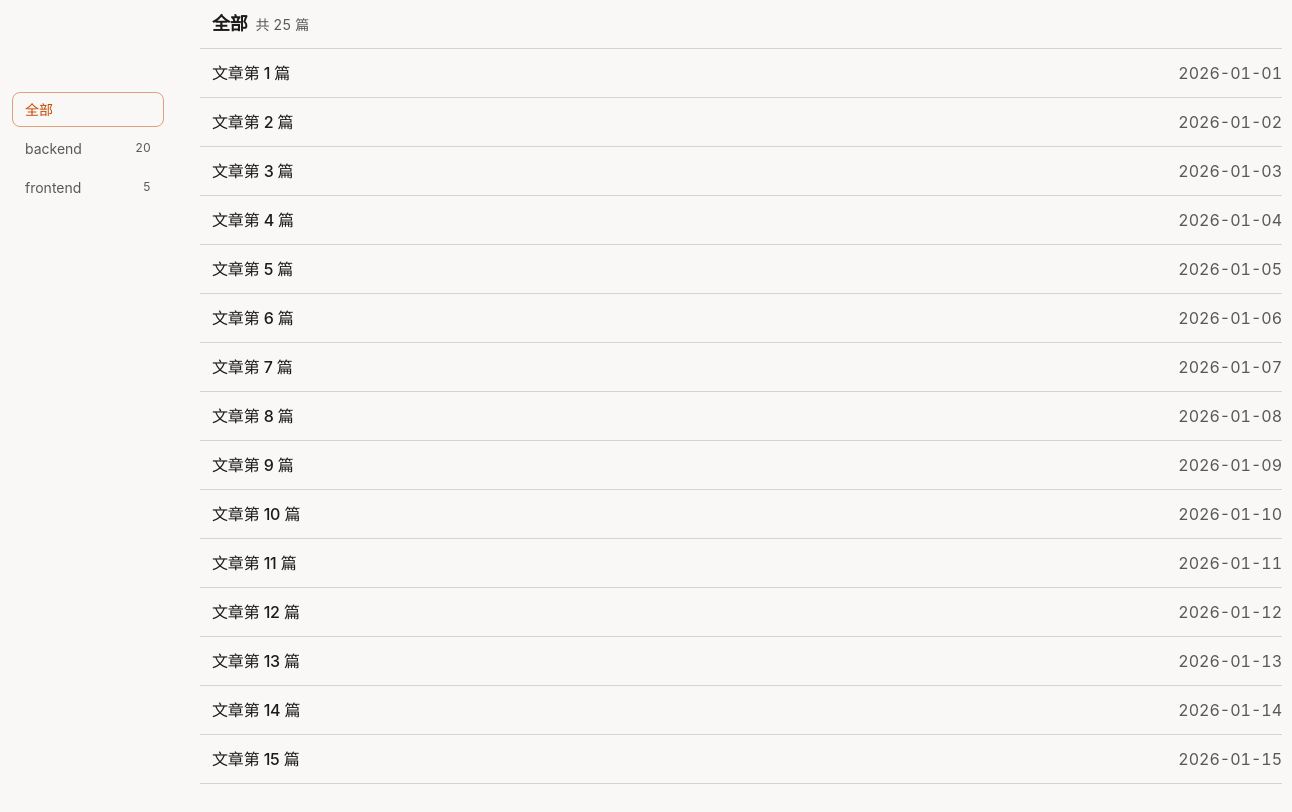
Test: PostsExplorer 分批加载与侧栏交互 › 切换分类时重置加载数量并筛选当前分类
切换到 backend（20 篇）
Click the button "backend 20": (88, 148) 12,131 -> 164,166
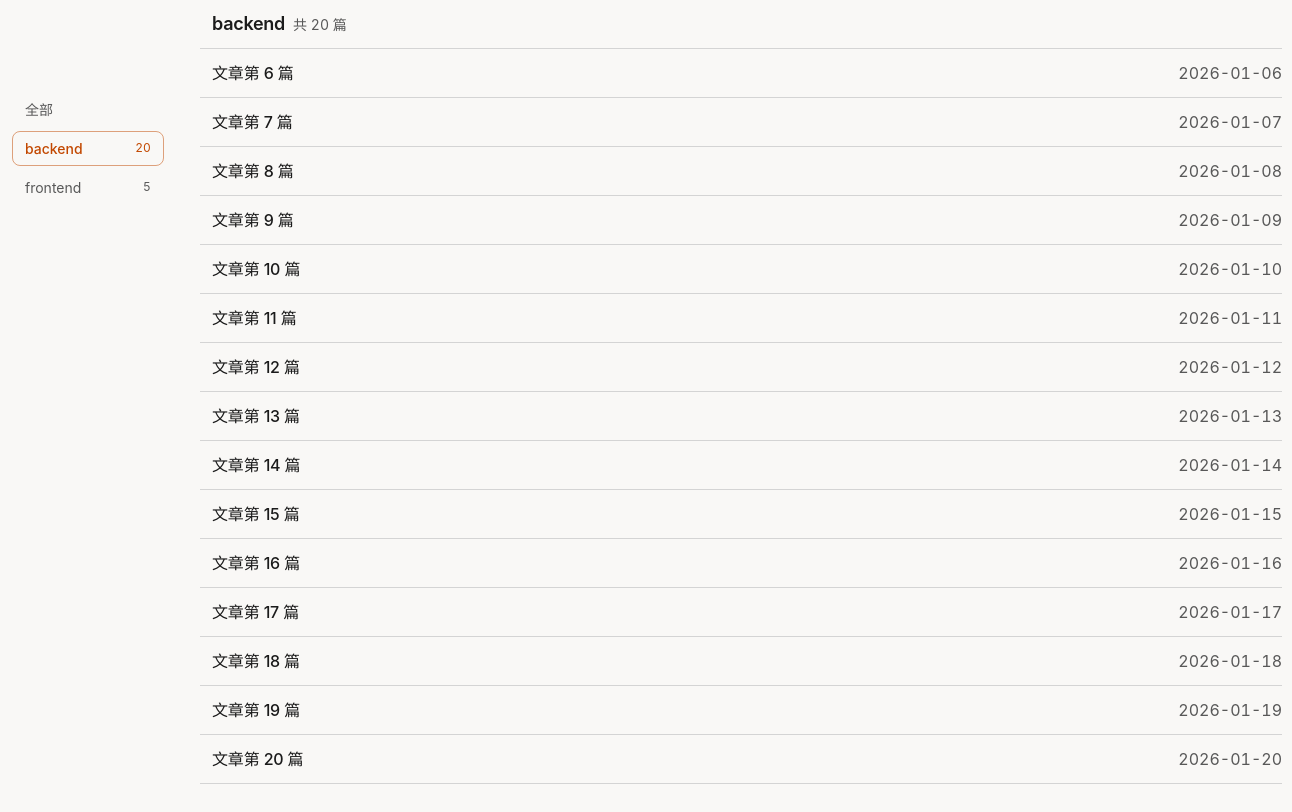
切换到 frontend（5 篇，少于 15 篇）
Click the button "frontend 5": (88, 188) 12,170 -> 164,205
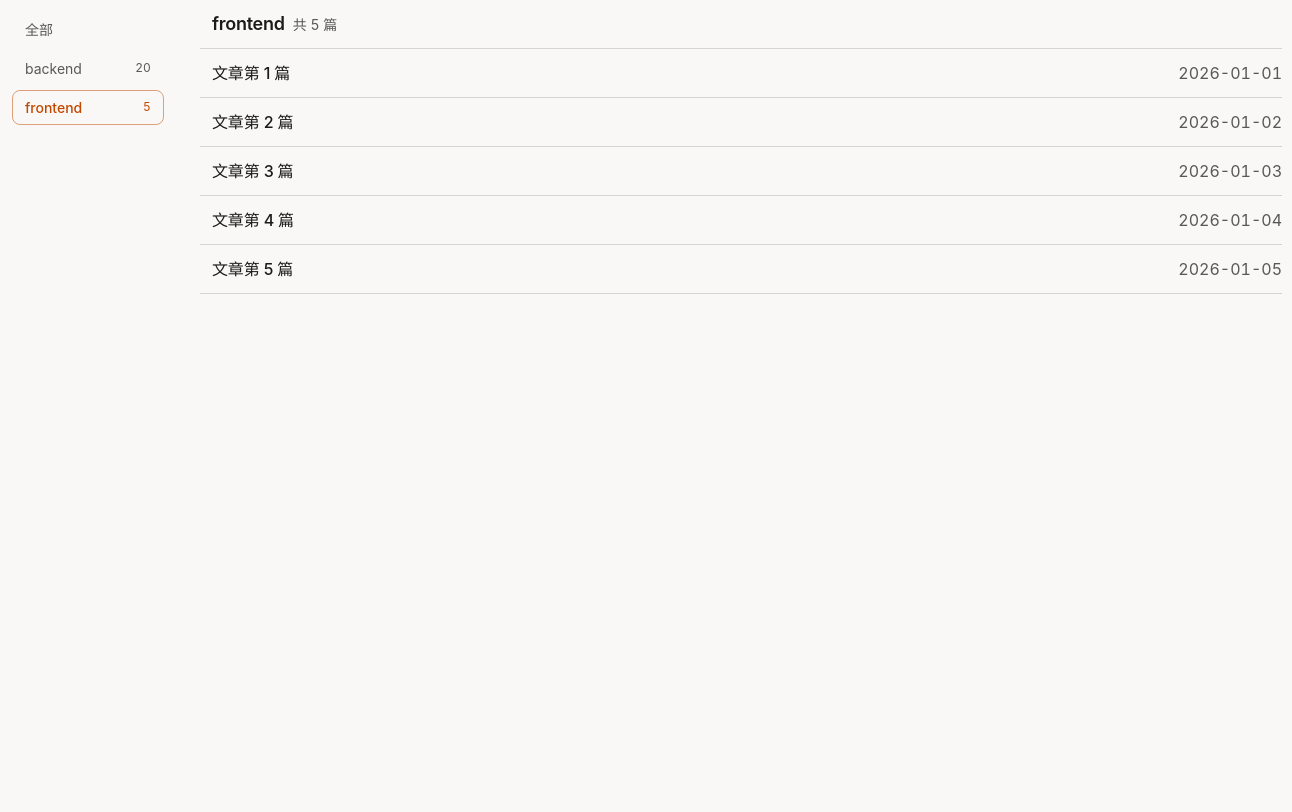
Expected: the number of links is 5, 212,63 -> 290,83; 212,112 -> 293,132; 212,161 -> 294,181; 212,210 -> 294,230; 212,259 -> 293,279
